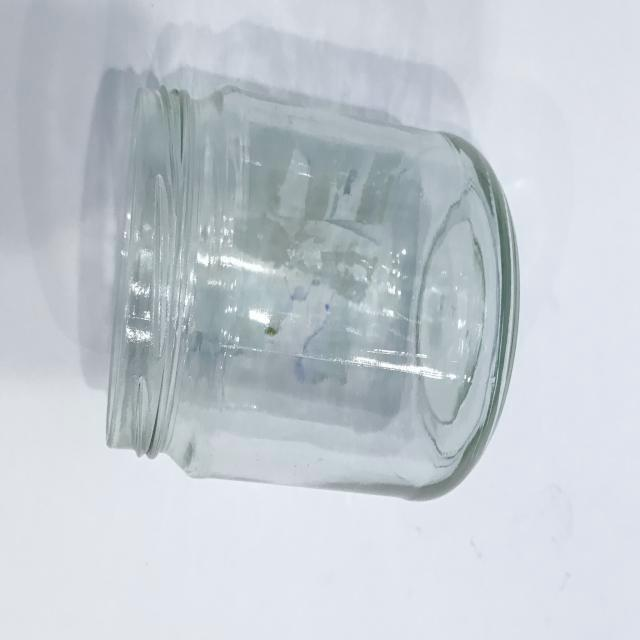glass: (100, 66, 524, 515)
